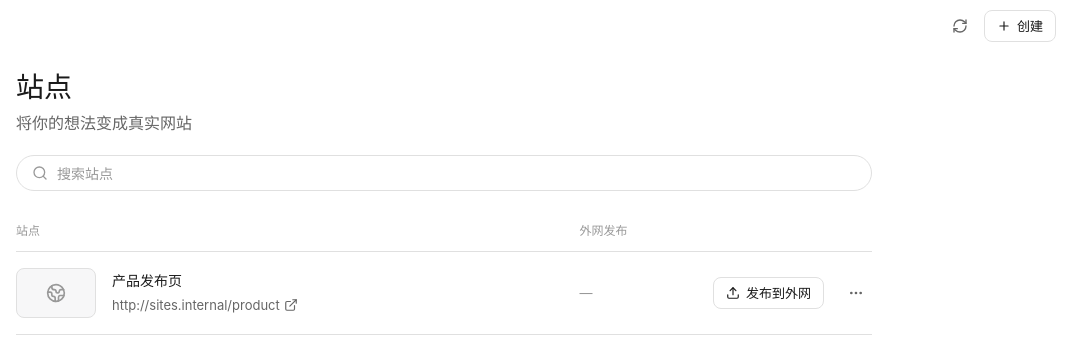
Test: SitesWorkspace › publishes to the external internet and displays the generated URL
Expected: the heading "产品发布页" is shown, [112,272,182,289]
Click the button with test id "site-publish-site-1" at {"x": 768, "y": 293}, box [713,277,824,309]
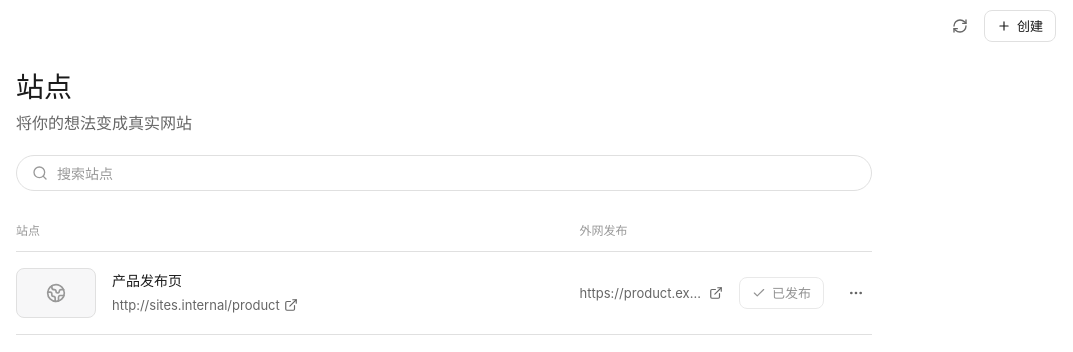
Expected: the text "https://product.example.site" is shown, [580,283,705,303]
Expected: the button with test id "site-publish-site-1" is disabled, [739,277,824,309]
